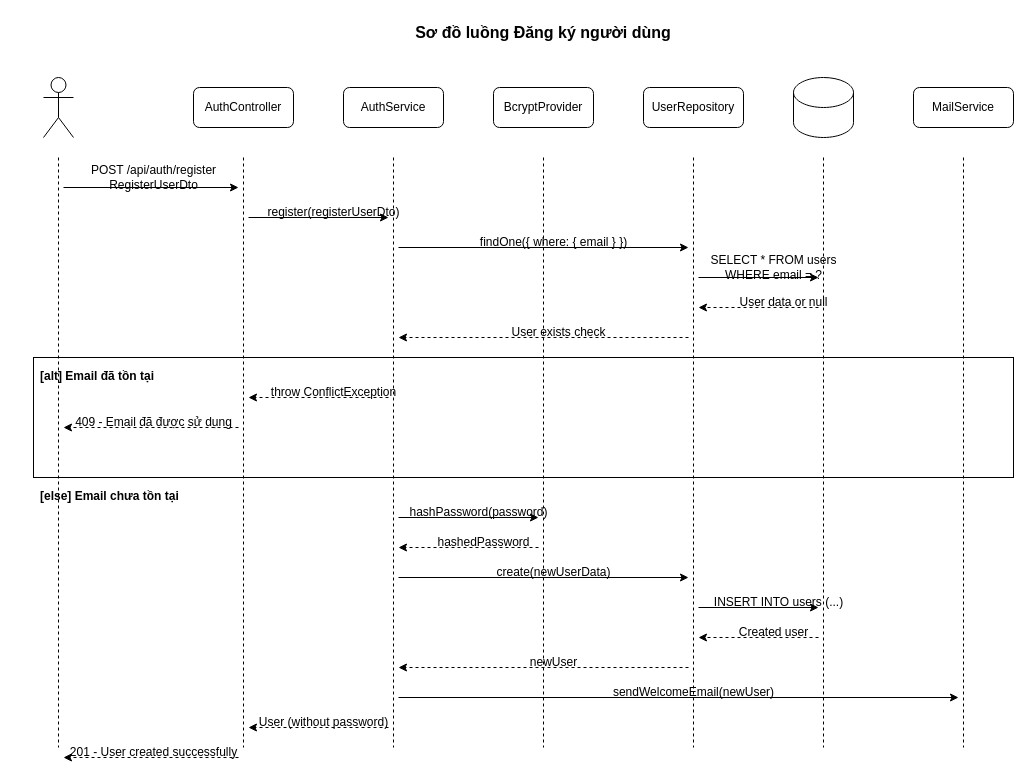
The diagram is 1031 pixels wide and 784 high, and some of its shapes have lost their labels. Each missing label, with the box of its shape:
Client/Frontend: (42, 76, 74, 138)
Database: (792, 76, 854, 138)
